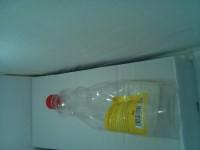bottle: (111, 0, 114, 30)
